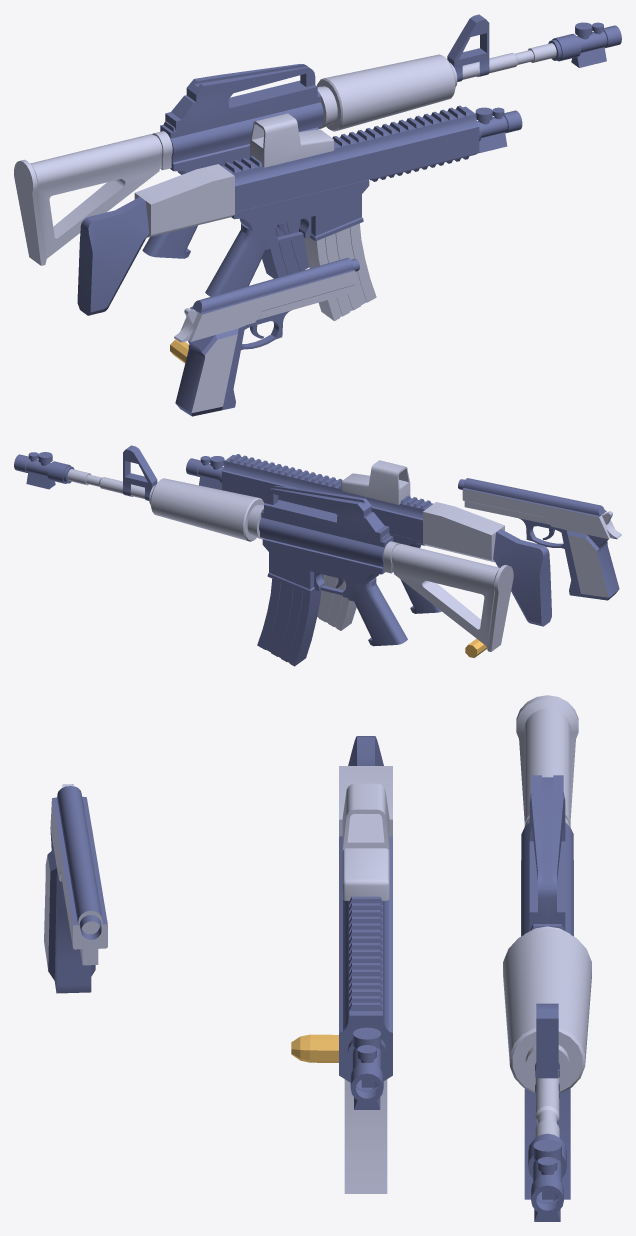
The model's file is Gun and guli.fbx.
The picture shows the model from 3 angles, top to bottom: view 1: azimuth 30°, elevation 25°; view 2: azimuth 150°, elevation 25°; view 3: azimuth 270°, elevation 25°; orthographic projection. The views are drawn at different scales.
Visible parts, largest first — view 1: MG7, MG6, MSR; view 2: MG6, MG7, MSR; view 3: MG6, MG7, MSR, GUli.
Boxes of the visible parts, <box> form: MG7: <box>77,105,522,320</box>; MG6: <box>14,14,621,278</box>; MSR: <box>174,258,359,416</box>; MG6: <box>14,445,513,666</box>; MG7: <box>186,454,551,630</box>; MSR: <box>458,478,621,600</box>; MG6: <box>503,695,591,1221</box>; MG7: <box>339,736,392,1193</box>; MSR: <box>44,784,107,993</box>; GUli: <box>291,1034,338,1062</box>.
Size of the model in its own units: 79.2 by 27.32 by 38.54.
